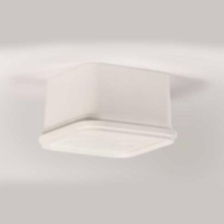plastic_box: (33, 57, 181, 164)
